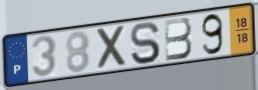3: (30, 33, 60, 79)
8: (65, 29, 92, 75)
9: (200, 12, 225, 56)
B: (163, 16, 195, 63)
S: (129, 21, 162, 67)
X: (95, 23, 129, 72)
